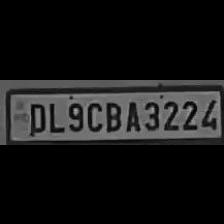2: (160, 97, 178, 131), (178, 96, 196, 130)
3: (140, 96, 160, 130)
4: (198, 95, 218, 129)
9: (64, 97, 84, 130)
A: (122, 97, 140, 131)
B: (102, 97, 122, 131)
C: (84, 97, 103, 131)
D: (26, 99, 46, 133)
L: (46, 98, 62, 132)
